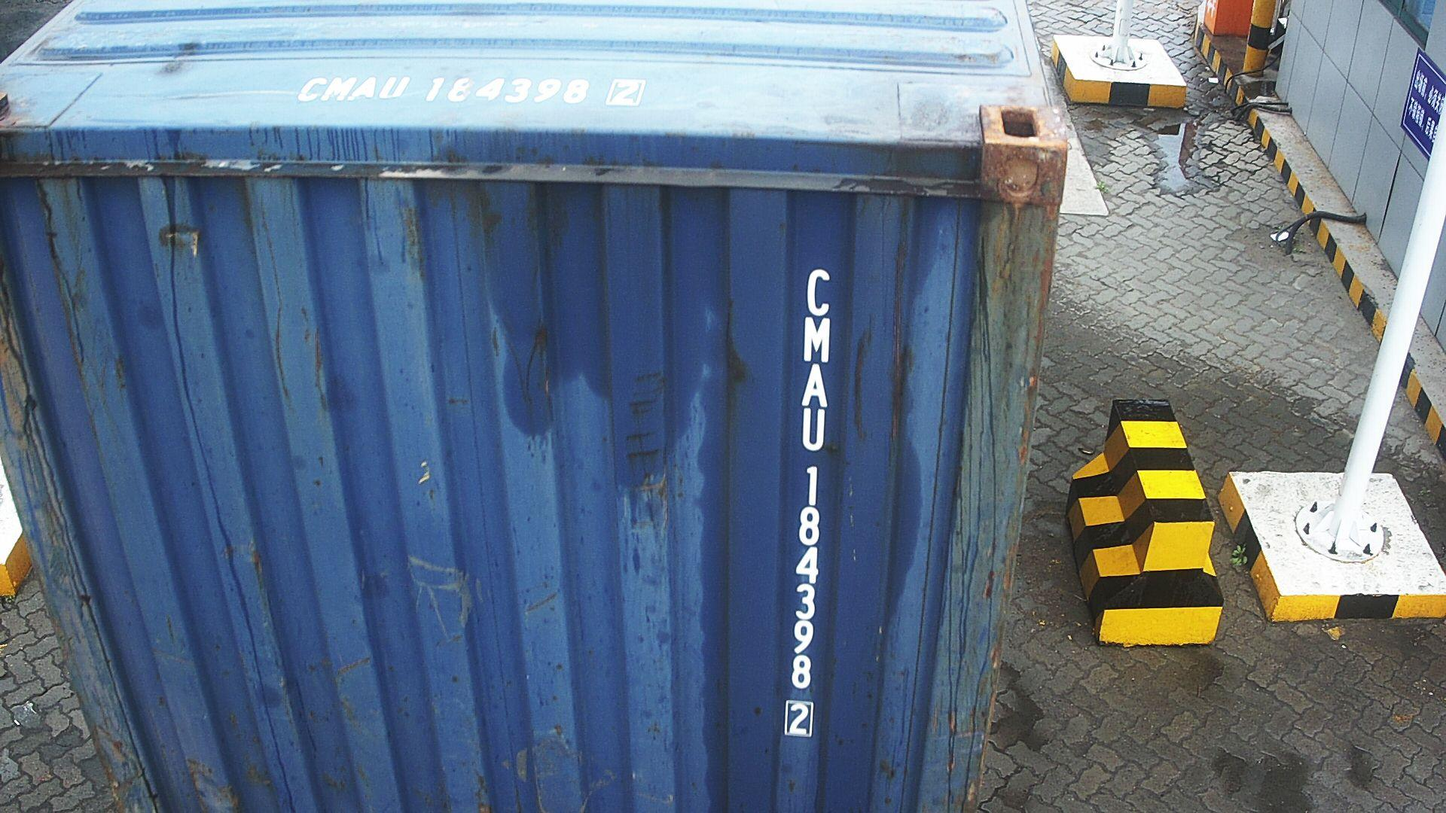container-numbers: (779, 261, 833, 741), (288, 70, 655, 109)
